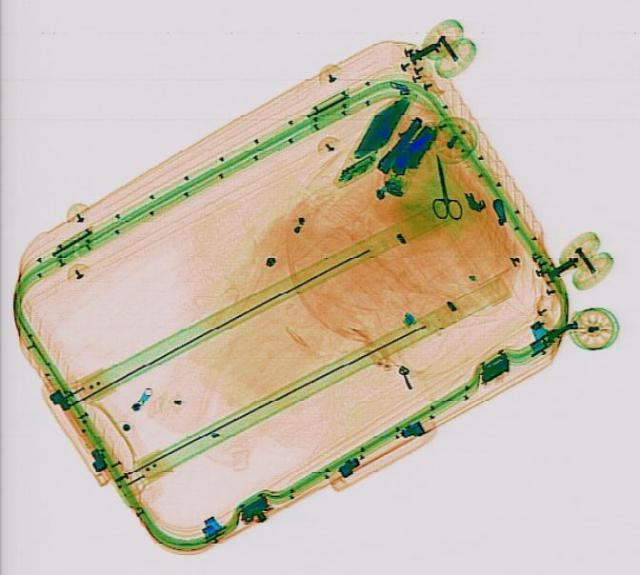Scissors: (422, 150, 462, 219)
